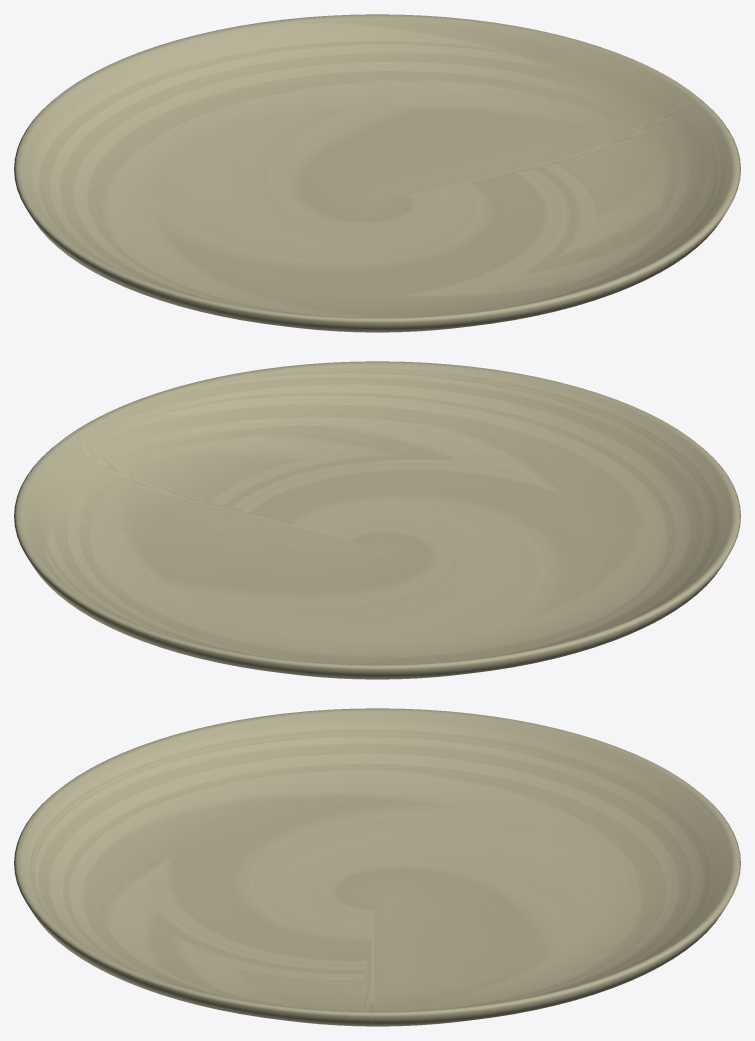
Rendered from dishware__dinner_plate.glb.
3 renders of one model, top to bottom at view 1: azimuth 30°, elevation 25°; view 2: azimuth 150°, elevation 25°; view 3: azimuth 270°, elevation 25°, orthographic.
Visible parts, largest first — view 1: body; view 2: body; view 3: body.
Part boxes in pixels (box(x1,y1,x2,y2)): body: box(14, 14, 740, 332); body: box(14, 361, 740, 679); body: box(14, 708, 740, 1026).
Bounding box in the file's own units: 0.26 × 0.021 × 0.26.
1 material, 1 textured.
